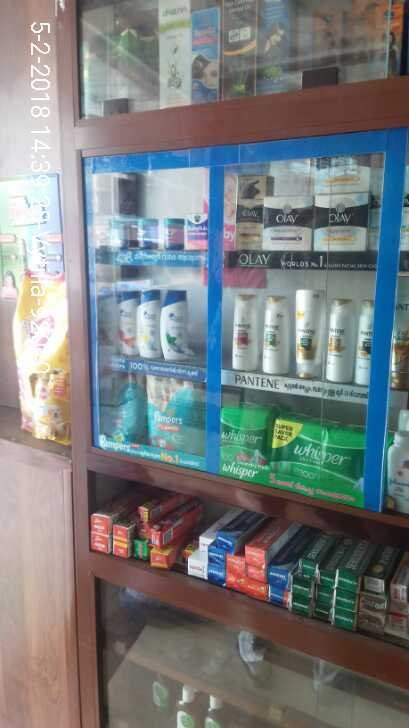vicks: (136, 208, 215, 254)
